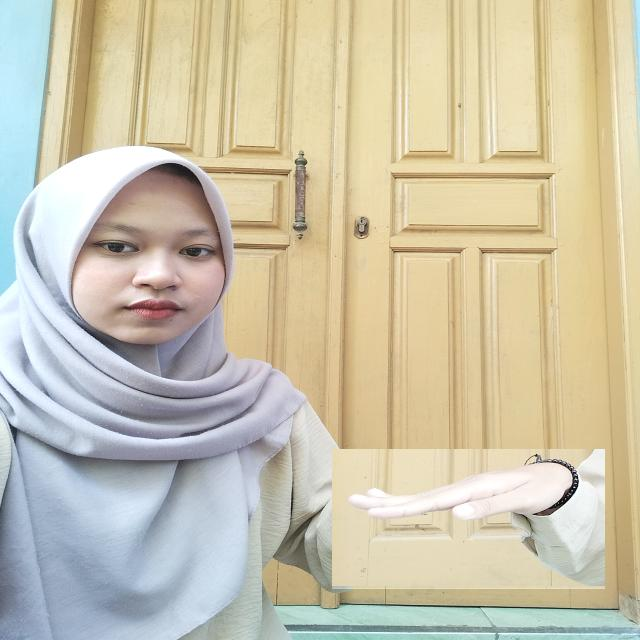adik: (332, 450, 605, 590)
